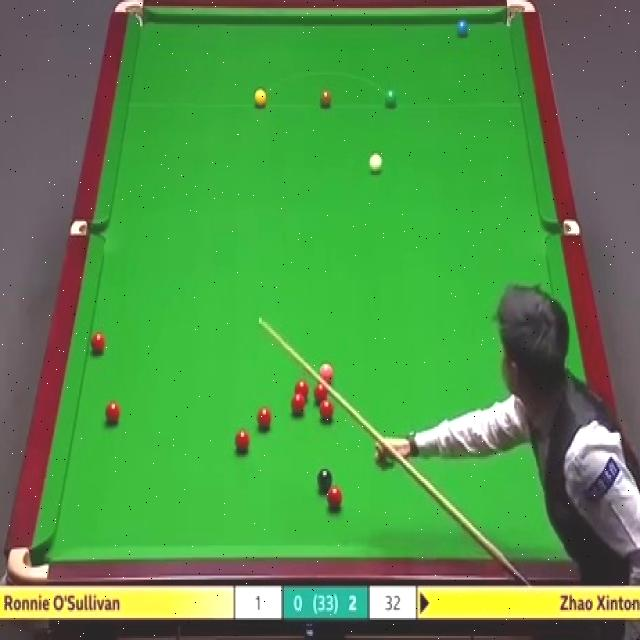black-ball: (317, 468, 331, 490)
blue-ball: (456, 18, 468, 41)
brown-ball: (320, 89, 333, 108)
green-ball: (384, 88, 398, 110)
pink-ball: (319, 362, 334, 388)
red-ball: (234, 428, 251, 454), (90, 332, 106, 356), (313, 380, 329, 404), (320, 398, 334, 425), (256, 405, 271, 430), (295, 378, 309, 404), (327, 486, 342, 509), (106, 401, 119, 424), (292, 393, 304, 414)
white-ball: (368, 153, 384, 174)
yellow-ball: (252, 88, 268, 108)
